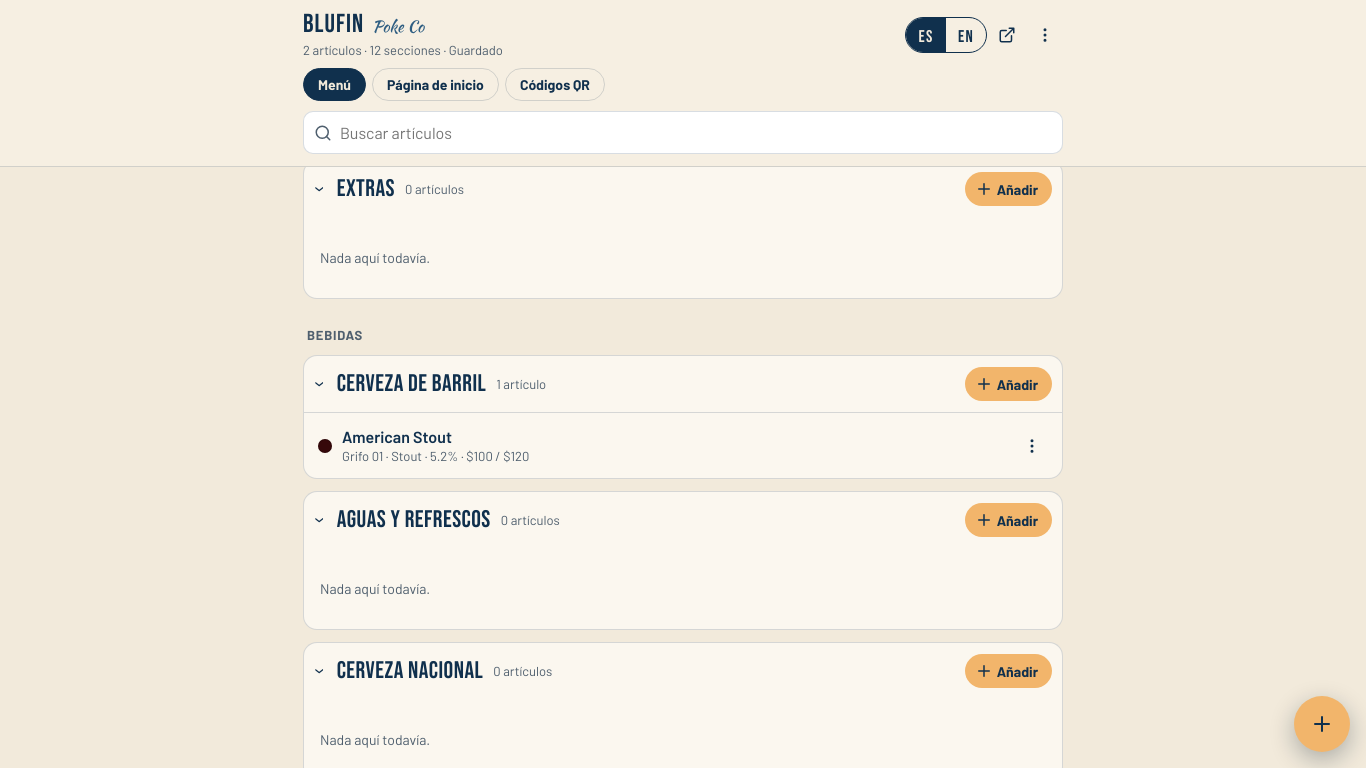
Test: /admin › adds from the section's Añadir and from the round + button
(page scrolled)
What coordinates should you click on to do the following:
click the button with aria-label "Añadir a Cerveza de barril"
I would click on:
 (1008, 384)
Its box is [965, 367, 1052, 401].
(page scrolled)
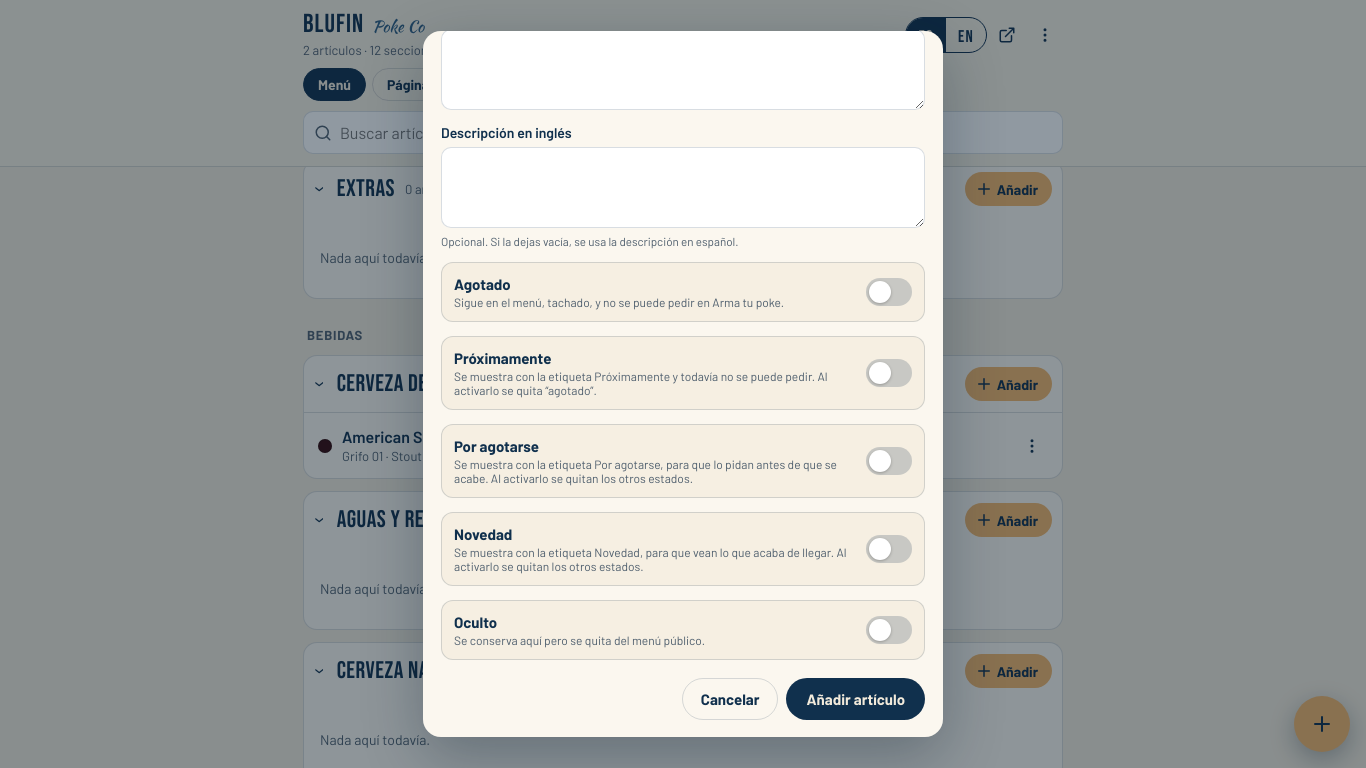
What coordinates should you click on to do the following:
click the button "Cancelar"
I would click on:
 (730, 699)
Its box is [682, 678, 778, 720].
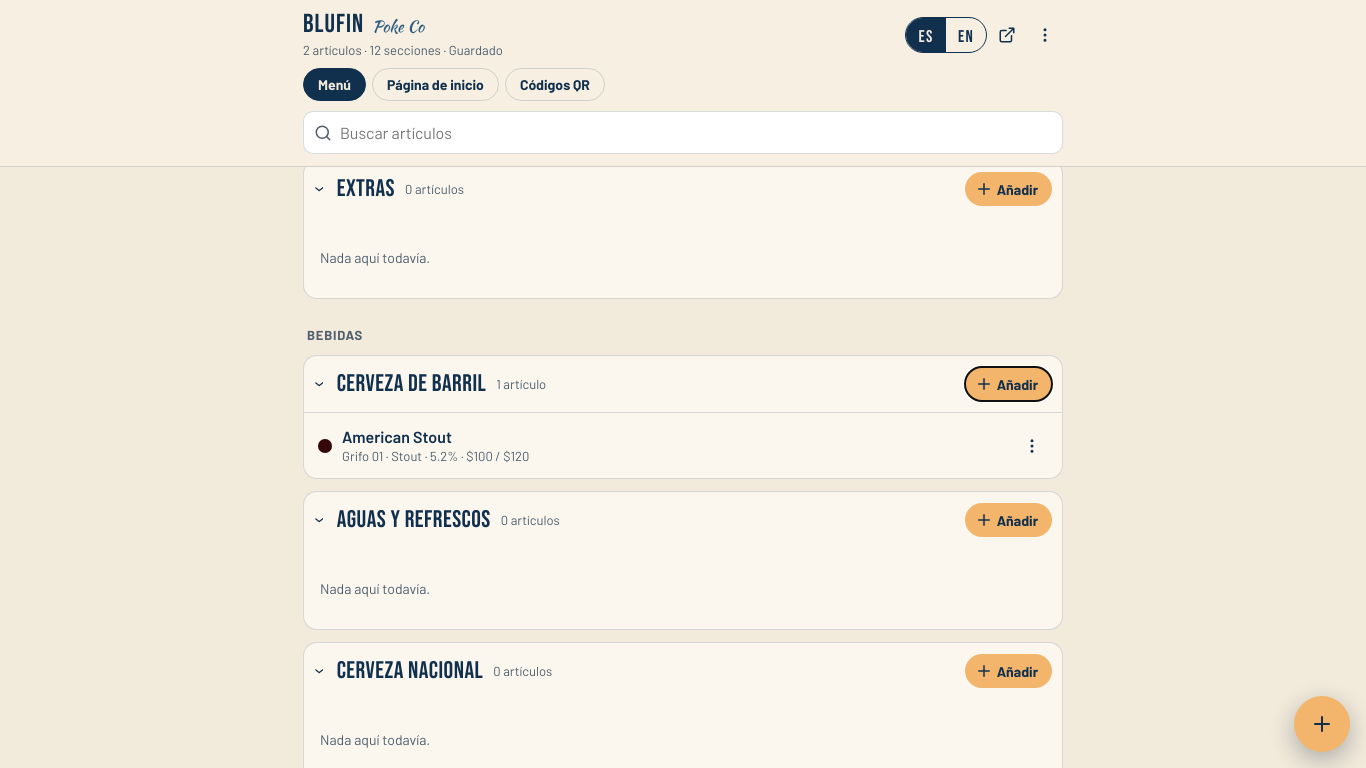
Note: The round button adds to the section used last.
What coordinates should you click on to do the following:
click the button named "Añadir artículo"
I would click on:
 (1322, 724)
Its box is [1294, 696, 1350, 752].
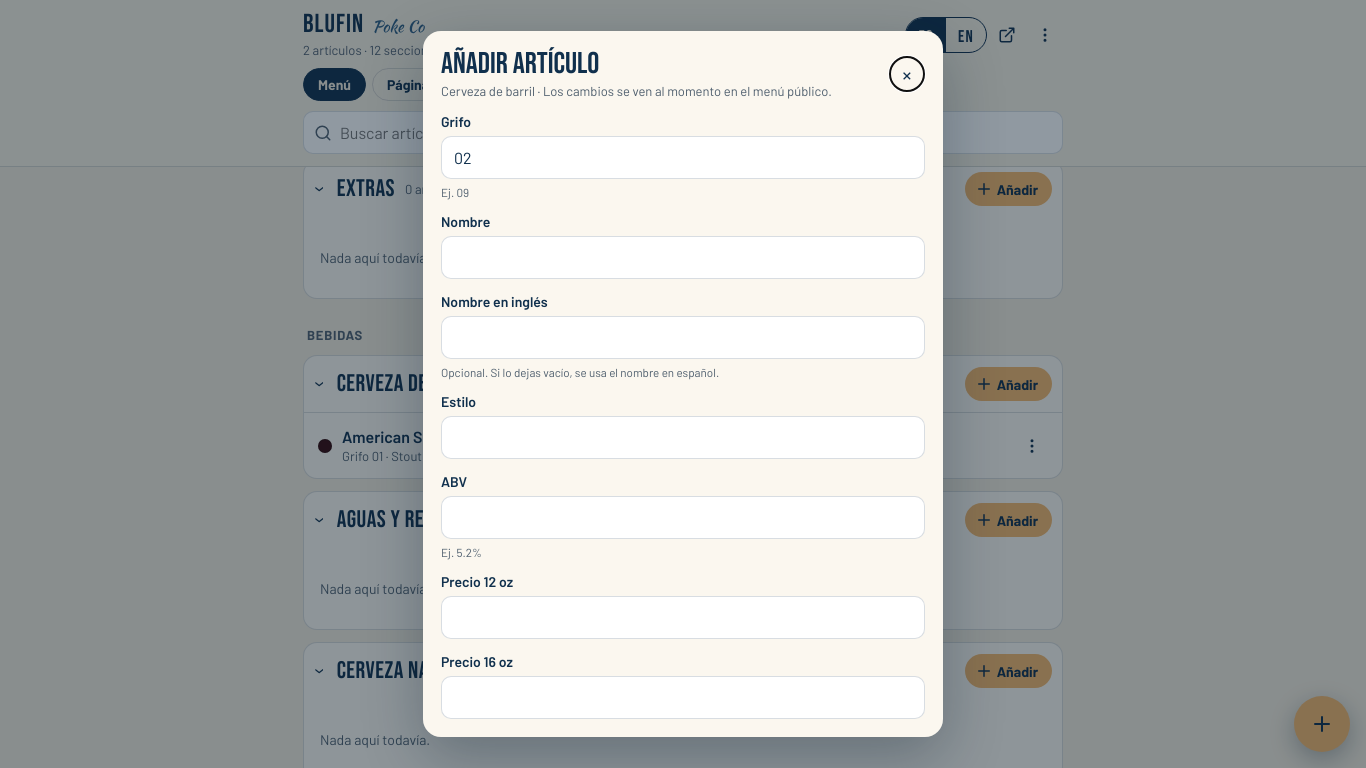
Result: the text "Cerveza de barril ·" is shown at [441, 83, 832, 99]
